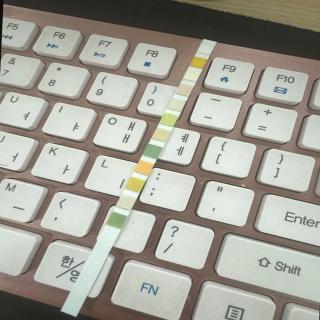mark: (109, 214, 123, 228), (136, 160, 150, 174), (146, 145, 160, 158), (154, 128, 168, 140), (119, 197, 133, 208), (130, 179, 142, 191), (163, 114, 175, 126), (170, 100, 184, 110), (192, 58, 206, 67), (178, 84, 190, 94), (199, 44, 211, 54), (184, 72, 198, 80)
